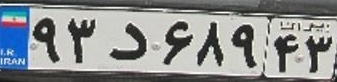character: (101, 16, 152, 68), (158, 16, 196, 67), (65, 15, 99, 67), (196, 17, 229, 69), (31, 15, 63, 66), (230, 20, 259, 71), (305, 32, 337, 78), (271, 32, 301, 74)
